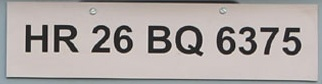character: (175, 25, 205, 56), (52, 23, 78, 54), (146, 24, 172, 54), (24, 22, 49, 52), (90, 24, 111, 54), (259, 25, 280, 55), (215, 26, 236, 55), (113, 24, 133, 54), (282, 25, 301, 56), (238, 26, 257, 55)
